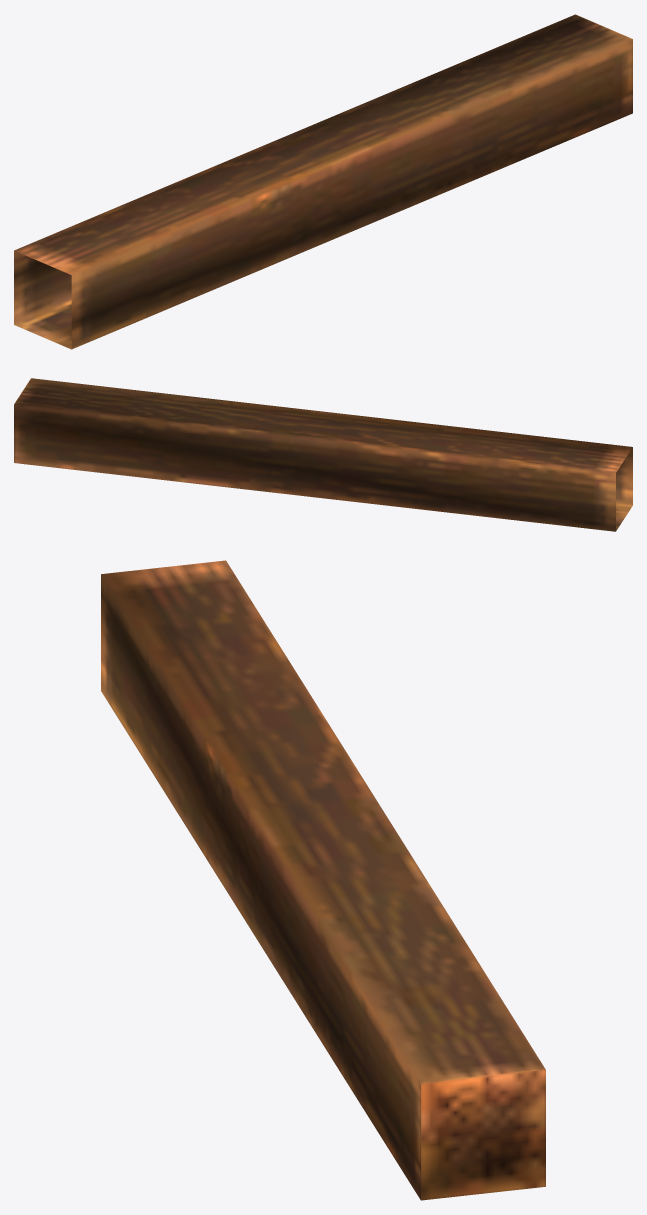
The model's file is SWORDLIGHT20_JAILBRACE130.fbx.
The picture shows the model from 3 angles, top to bottom: view 1: azimuth 30°, elevation 25°; view 2: azimuth 150°, elevation 25°; view 3: azimuth 270°, elevation 25°; orthographic projection. The views are drawn at different scales.
Visible parts, largest first — view 1: SWORDLIGHT20_JAILBRACE130; view 2: SWORDLIGHT20_JAILBRACE130; view 3: SWORDLIGHT20_JAILBRACE130.
Part boxes in pixels (x1,y1,x2,y2): SWORDLIGHT20_JAILBRACE130: (14,14,632,349); SWORDLIGHT20_JAILBRACE130: (14,378,632,531); SWORDLIGHT20_JAILBRACE130: (101,560,545,1200).
Bounding box in the file's own units: 38342 × 4000 × 13779.
Materials: 1 (1 with a texture image).
